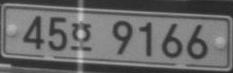1: (137, 21, 157, 57)
4: (22, 14, 45, 50)
5: (48, 16, 67, 51)
6: (160, 23, 183, 58), (186, 24, 208, 59)
9: (111, 19, 133, 54)
호: (70, 20, 91, 51)
